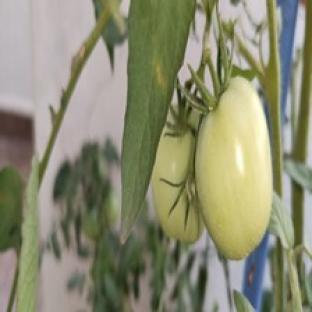Tomato: (195, 77, 271, 259), (152, 127, 203, 243), (105, 190, 119, 225)
